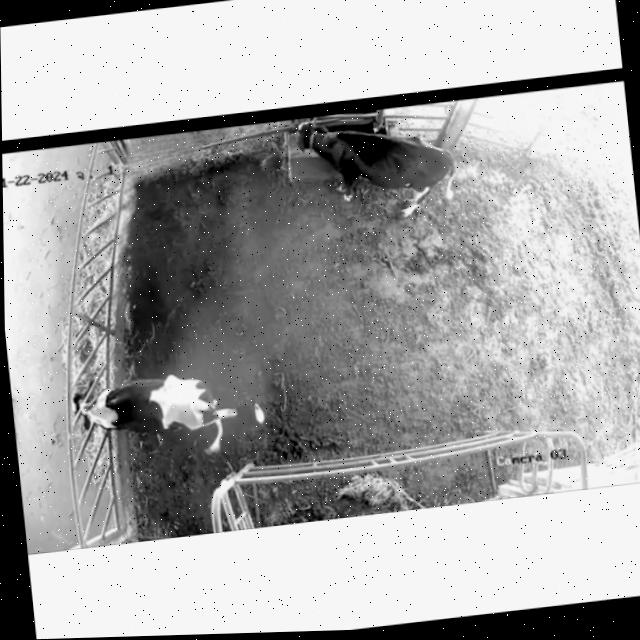drink: (290, 113, 359, 168)
eat: (45, 372, 134, 441)
